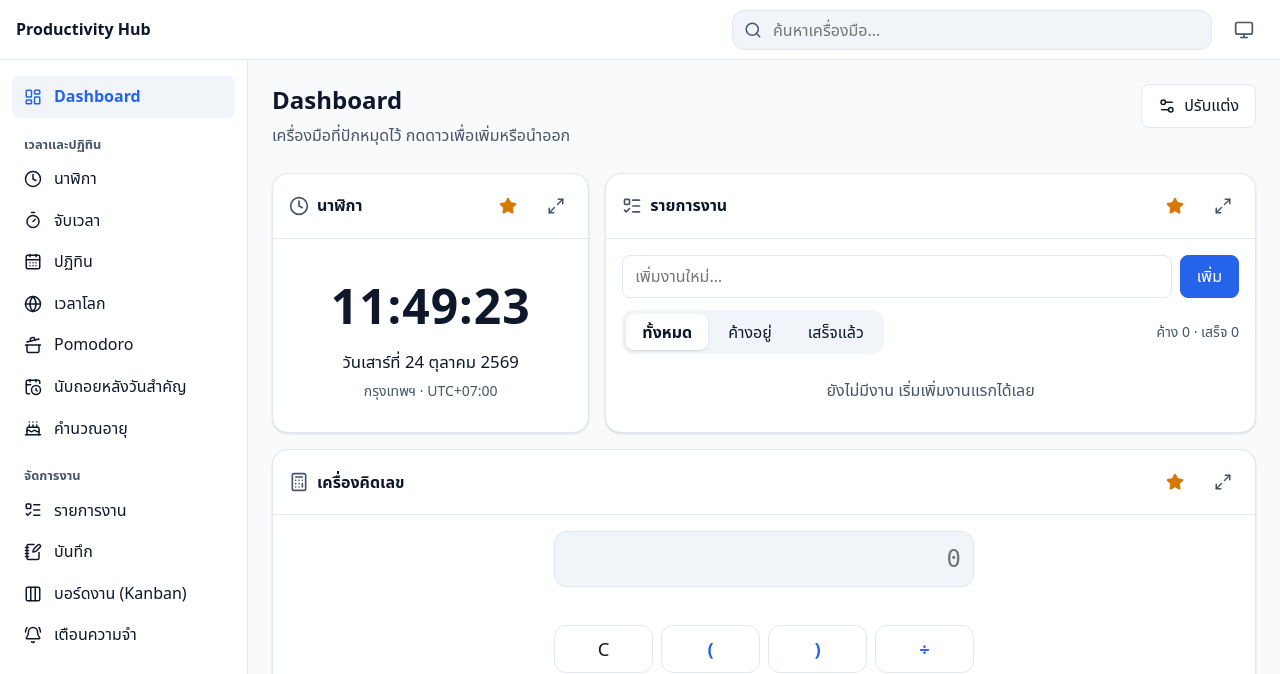
Test: App › searches tools by name and shows an empty result message
The image size is (1280, 674).
Type "json" into the search field labelled "ค้นหาเครื่องมือ" at (972, 30), box [732,10,1212,50]
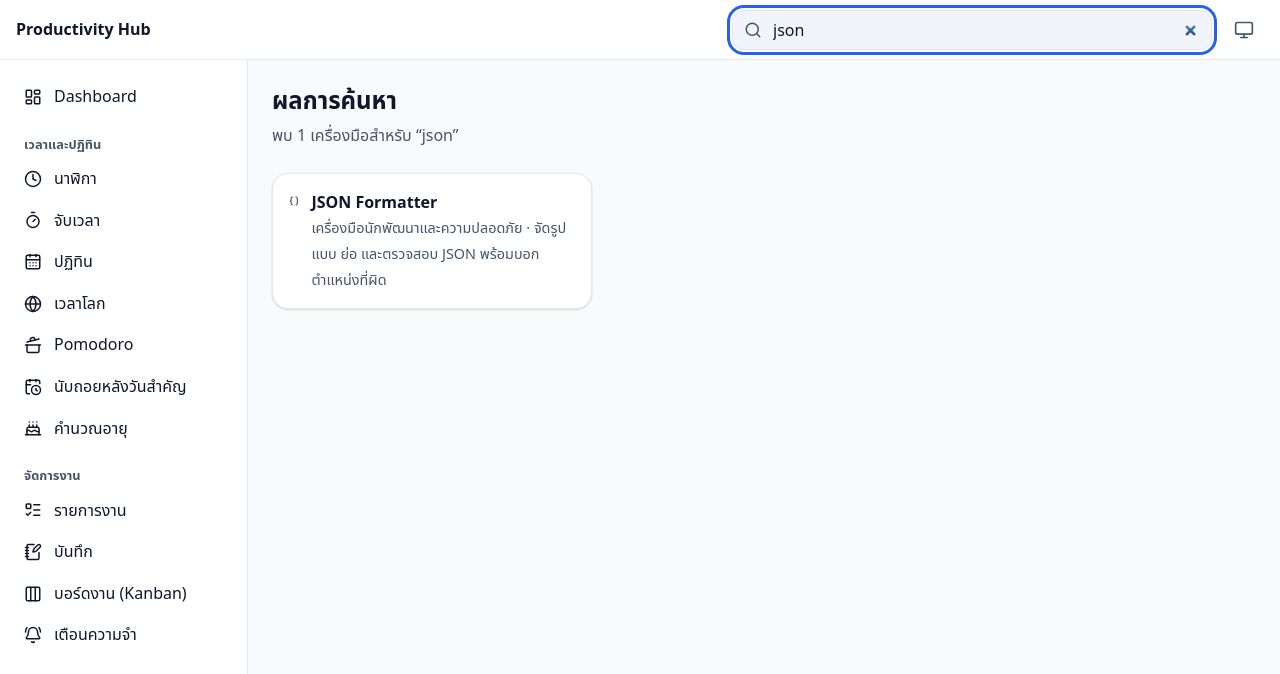
Expected: the link "JSON Formatter" is shown, [272,173,592,309]
Now the heading "ผลการค้นหา" is shown, box [272,83,397,116]
Replace the text in the search field named "ค้นหาเครื่องมือ" with "zzz" at (972, 30), box [732,10,1212,50]
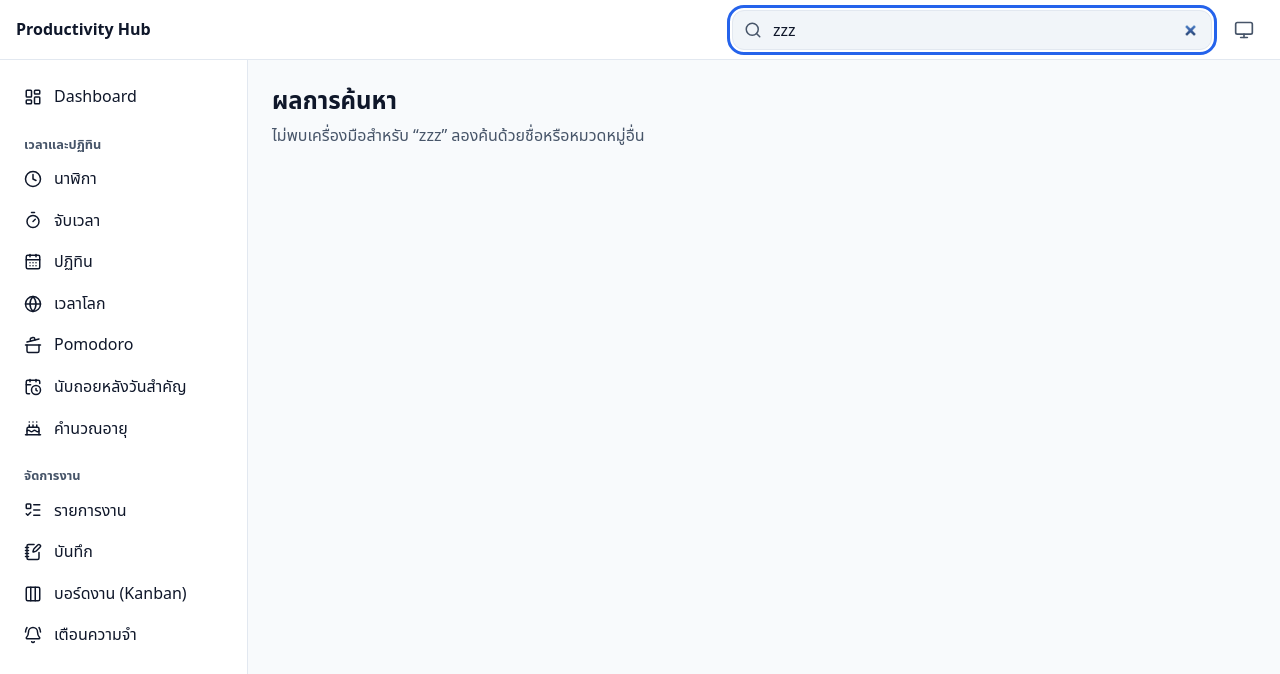
Now the text "ไม่พบเครื่องมือสำหรับ “zzz” ลองค้นด้วยชื่อหรือหมวดหมู่อื่น" is shown, box [272,124,645,146]
Press Escape
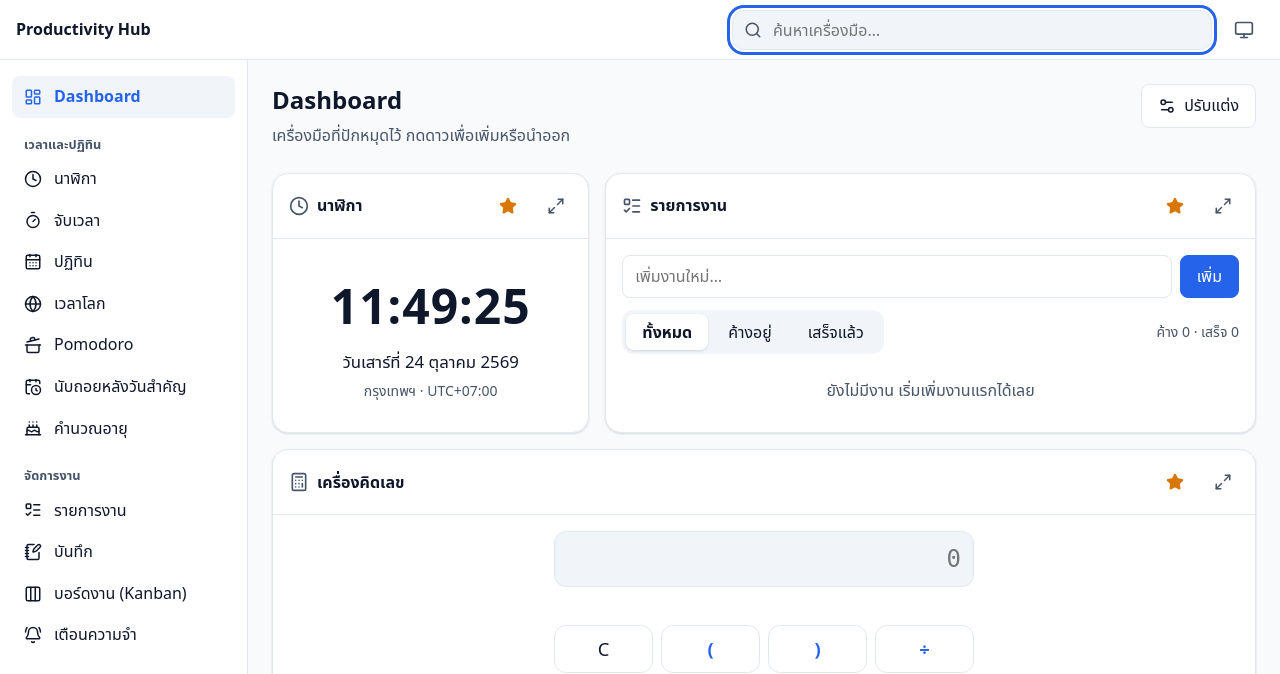
Now the heading "Dashboard" is shown, box [272,83,402,116]
